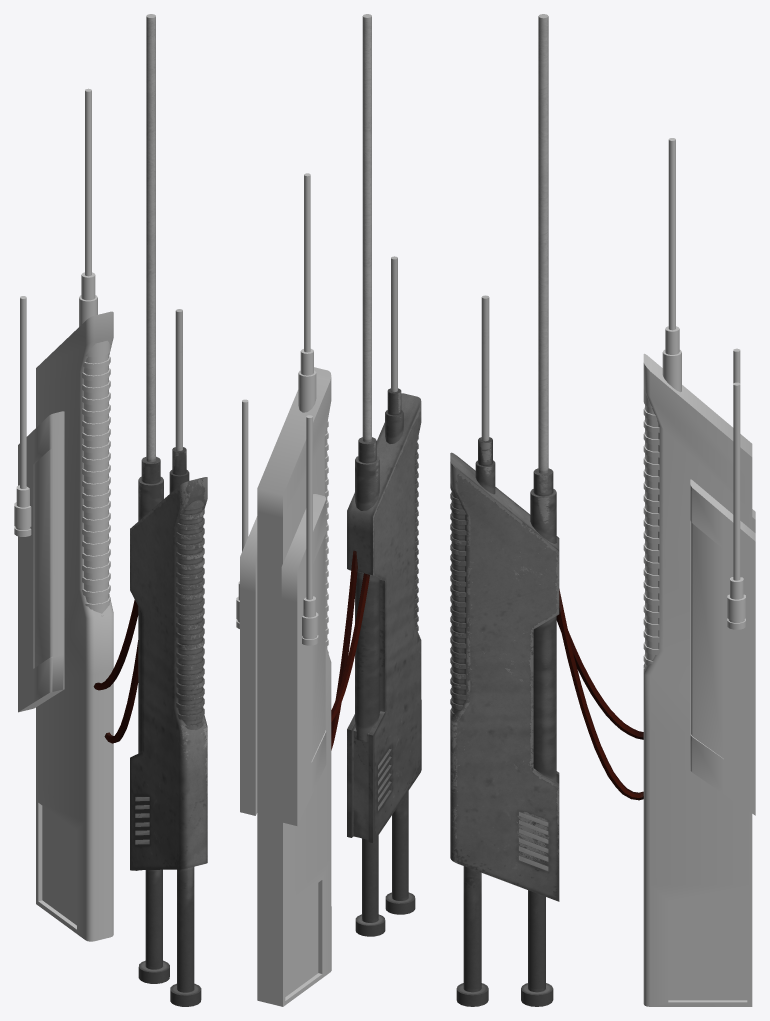
The model's file is Antenna2+3.fbx.
3 renders of one model, left to right at view 1: azimuth 30°, elevation 25°; view 2: azimuth 150°, elevation 25°; view 3: azimuth 270°, elevation 25°, orthographic. The views are drawn at different scales.
Parts seen in each view (by area): view 1: Antenna3, Antenna2; view 2: Antenna3, Antenna2; view 3: Antenna3, Antenna2.
Part boxes in pixels (x1,y1,x2,y2): Antenna3: (14, 88, 113, 941); Antenna2: (93, 14, 207, 1006); Antenna3: (236, 173, 331, 1006); Antenna2: (331, 14, 421, 936); Antenna3: (643, 138, 755, 1006); Antenna2: (450, 14, 643, 1006).
Bounding box in the file's own units: 91.82 × 1011 × 284.
